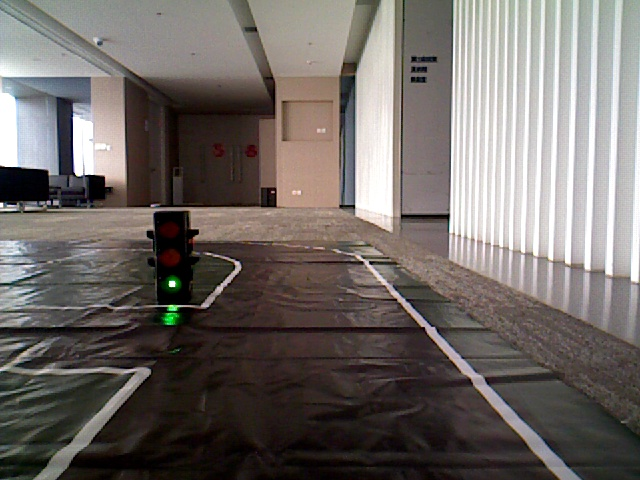green: (153, 214, 192, 291)
